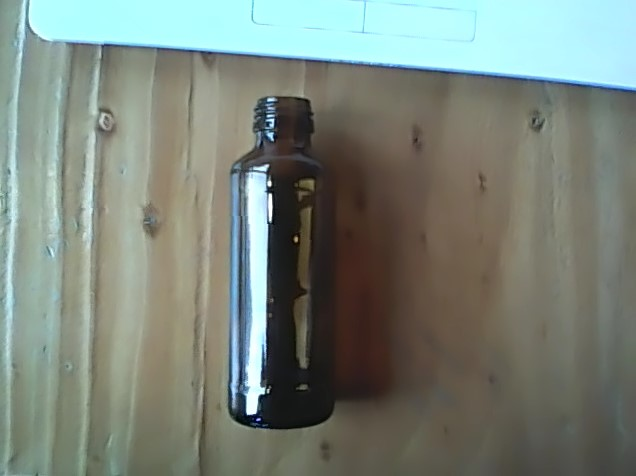Glass: (226, 91, 341, 431)
